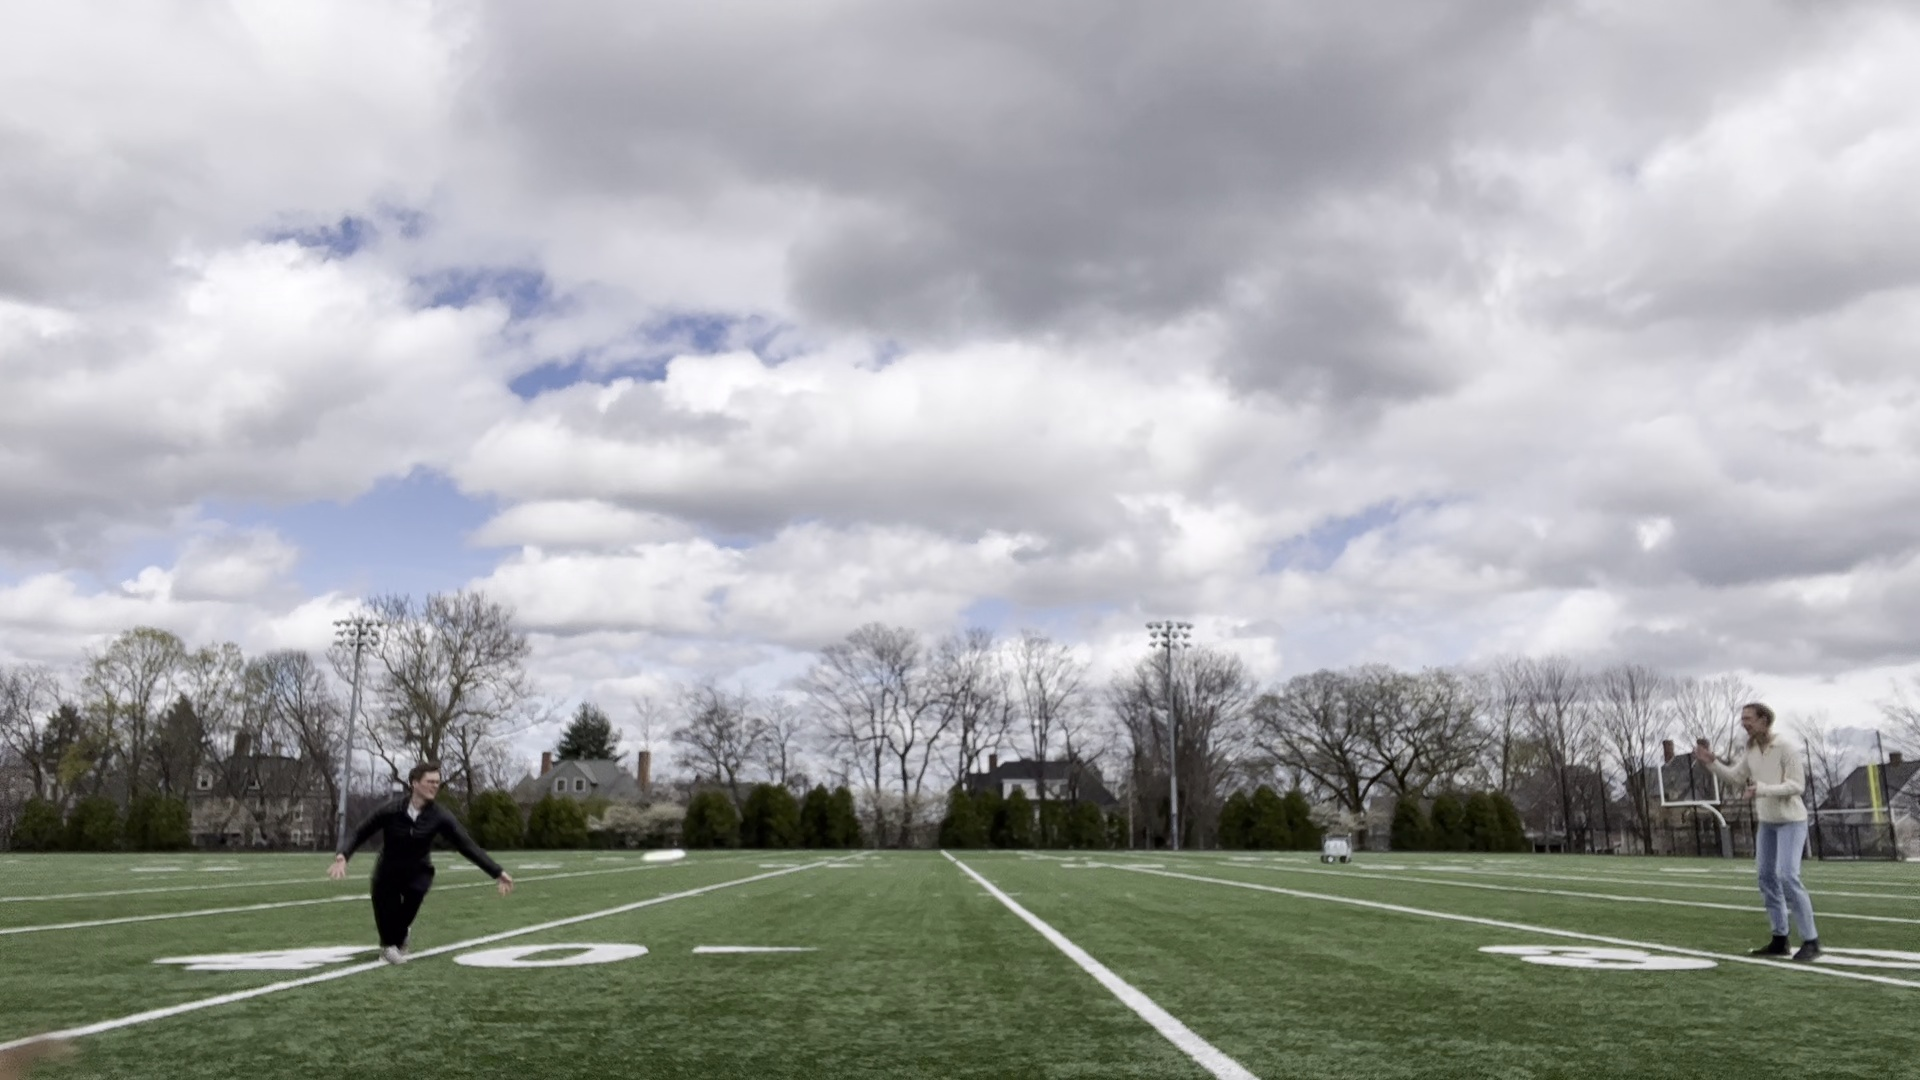Frisbee: (642, 847, 686, 866)
